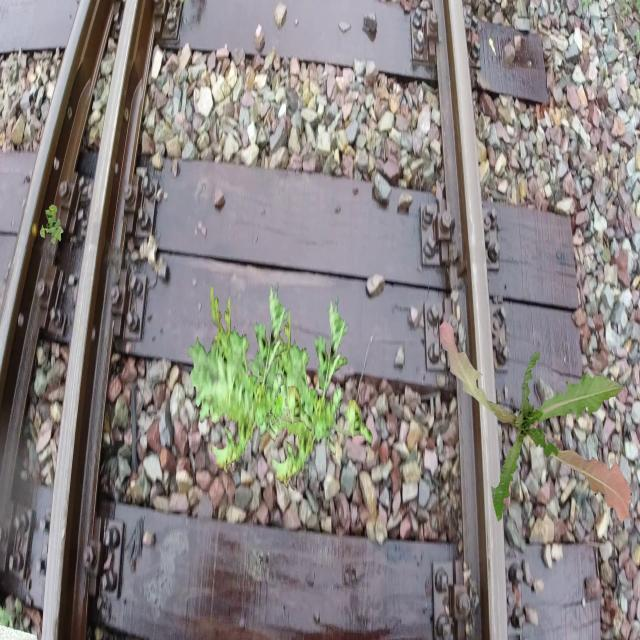Plant: (439, 321, 632, 524), (248, 295, 373, 491), (188, 281, 313, 477), (40, 204, 64, 245), (270, 393, 290, 426)
